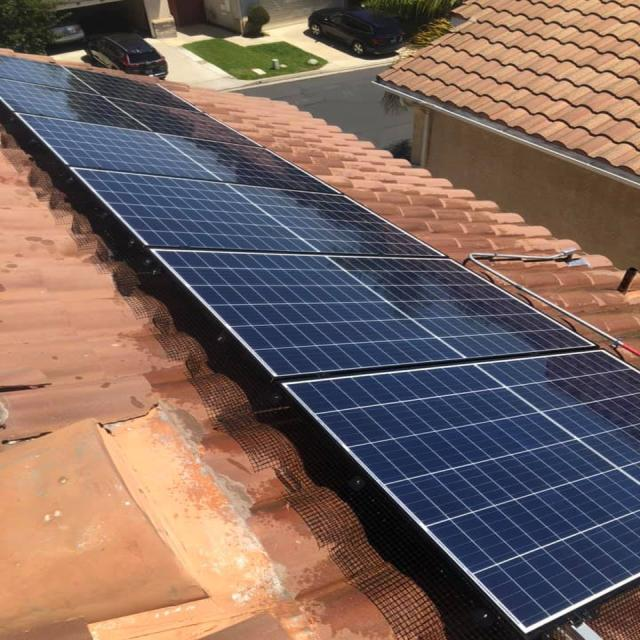clean-solar-panel: (2, 55, 638, 640)
